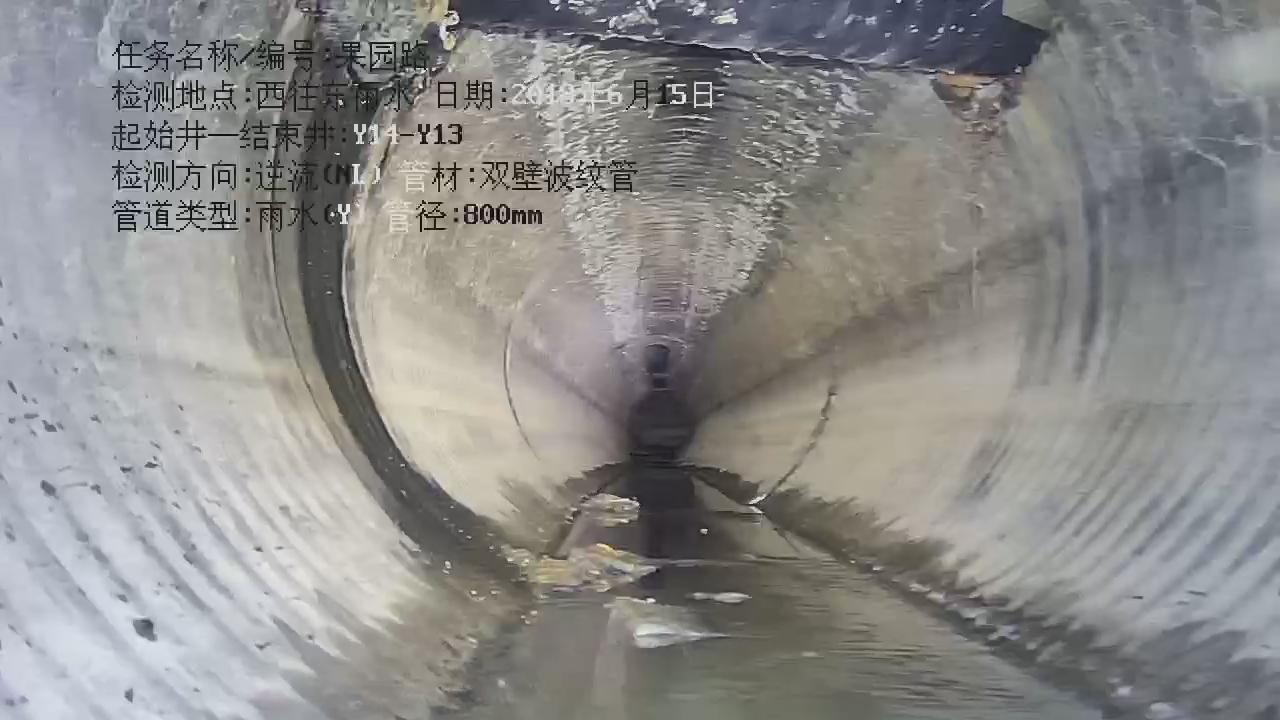YWCR: (451, 0, 1048, 75)
